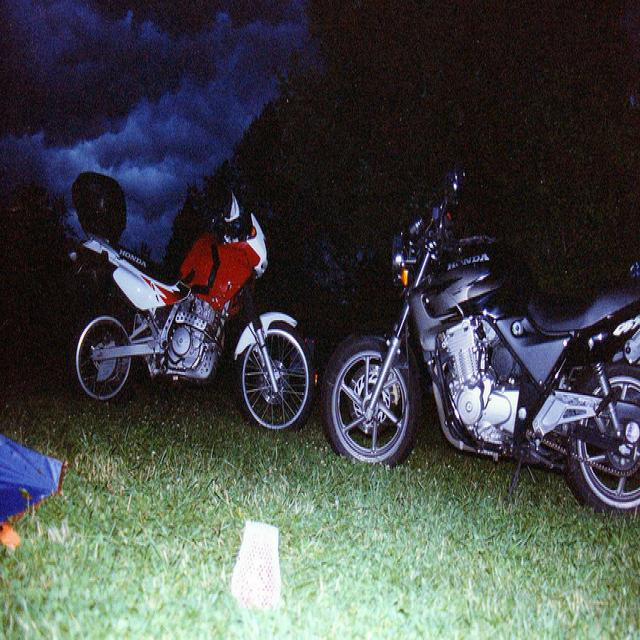motor: (326, 163, 638, 512), (69, 174, 317, 438)
